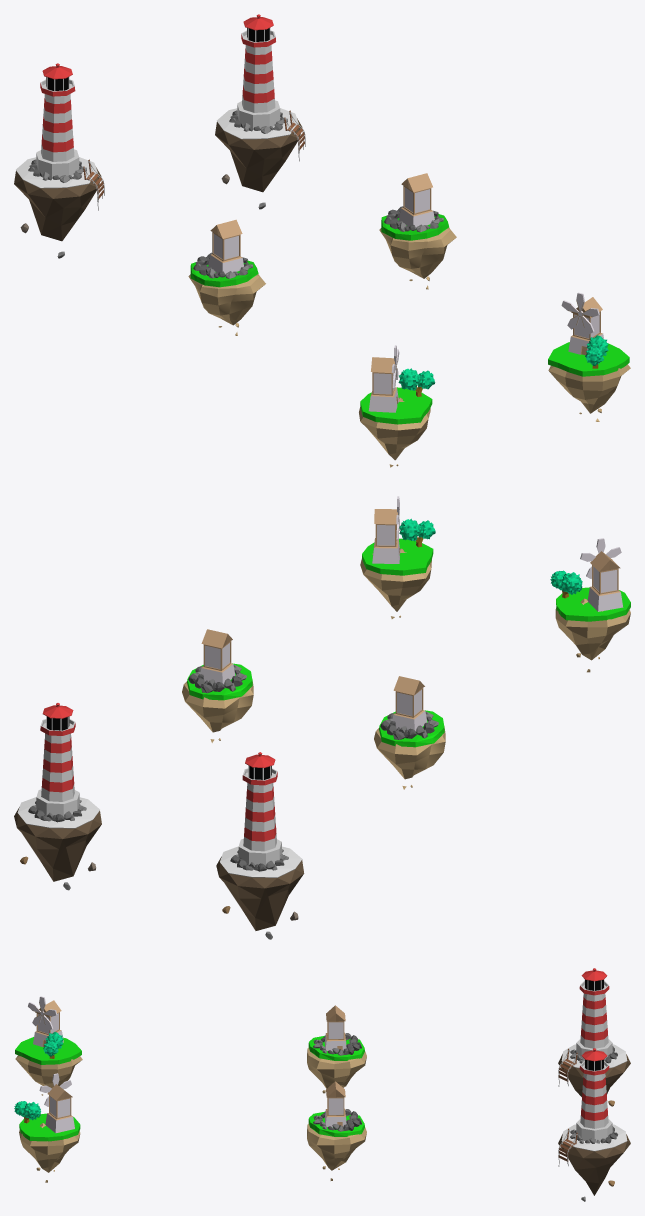
Rendered from Background.glb.
3 renders of one model, top to bottom at view 1: azimuth 30°, elevation 25°; view 2: azimuth 150°, elevation 25°; view 3: azimuth 270°, elevation 25°, orthographic. The views are drawn at different scales.
Parts seen in each view (by area): view 1: lighthouse, lighthouse.001, ground_05, ground_05.001, Island.001, Island.003, Island, Green_platform, Island.002, Green_platform.002, Mill.003, Mill.001 (+8 smaller); view 2: lighthouse, lighthouse.001, ground_05, ground_05.001, Island.002, Island.001, Island.003, Mill.002, Island, Green_platform, Mill.003, Mill.001 (+10 smaller); view 3: lighthouse, lighthouse.001, ground_05, Island.001, Island.003, Island, Green_platform.002, Mill, Island.002, Green_platform, Mill.001, Mill.003 (+11 smaller).
Part boxes in pixels (x1,y1,x2,y2): lighthouse: [237, 14, 280, 129]; lighthouse.001: [36, 63, 79, 178]; ground_05: [215, 118, 302, 192]; ground_05.001: [14, 167, 101, 241]; Island.001: [379, 227, 456, 289]; Island.003: [188, 274, 265, 335]; Island: [548, 364, 630, 421]; Green_platform: [548, 342, 629, 376]; Island.002: [359, 397, 430, 467]; Green_platform.002: [360, 387, 432, 424]; Mill.003: [208, 219, 243, 274]; Mill.001: [399, 173, 434, 228]; lighthouse: [36, 703, 79, 817]; lighthouse.001: [238, 752, 281, 866]; ground_05: [14, 807, 101, 881]; ground_05.001: [216, 856, 304, 930]; Island.002: [555, 598, 630, 672]; Island.001: [182, 679, 253, 742]; Island.003: [374, 726, 445, 789]; Mill.002: [587, 551, 623, 611]; Island: [360, 548, 431, 618]; Green_platform: [362, 538, 433, 575]; Mill.003: [392, 676, 427, 731]; Mill.001: [200, 629, 235, 684]; lighthouse: [576, 1048, 612, 1141]; lighthouse.001: [576, 968, 612, 1060]; ground_05: [558, 1134, 630, 1195]; Island.001: [307, 1123, 366, 1180]; Island.003: [307, 1047, 366, 1093]; Island: [19, 1123, 80, 1182]; Green_platform.002: [15, 1037, 81, 1064]; Mill: [45, 1084, 74, 1133]; Island.002: [15, 1055, 82, 1095]; Green_platform: [19, 1113, 80, 1141]; Mill.001: [324, 1081, 346, 1127]; Mill.003: [324, 1005, 346, 1051].
Size of the model in its own units: 12.62 by 8.32 by 30.03.
